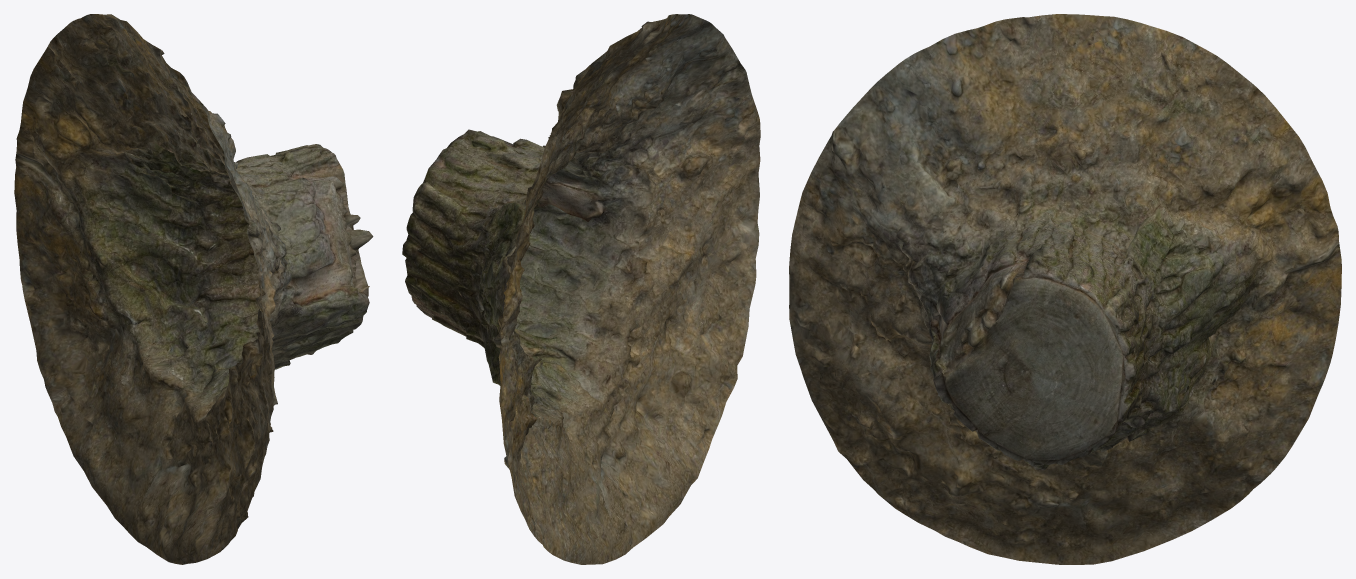
Rendered from pine_stump.glb.
3 renders of one model, left to right at view 1: azimuth 30°, elevation 25°; view 2: azimuth 150°, elevation 25°; view 3: azimuth 270°, elevation 25°, orthographic. The views are drawn at different scales.
Visible parts, largest first — view 1: Pine Stump; view 2: Pine Stump; view 3: Pine Stump.
Boxes of the visible parts, left/top/right/bottom form: Pine Stump: left=14, top=14, right=373, bottom=564; Pine Stump: left=402, top=14, right=760, bottom=564; Pine Stump: left=789, top=14, right=1341, bottom=564.
Size of the model in its own units: 0.898 by 2.19 by 1.99.
1 material, 1 textured.
